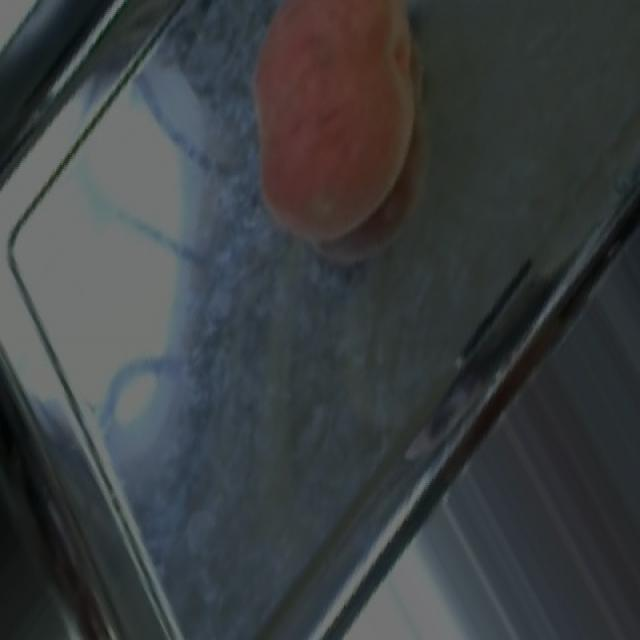Fruit: (213, 0, 465, 272)
